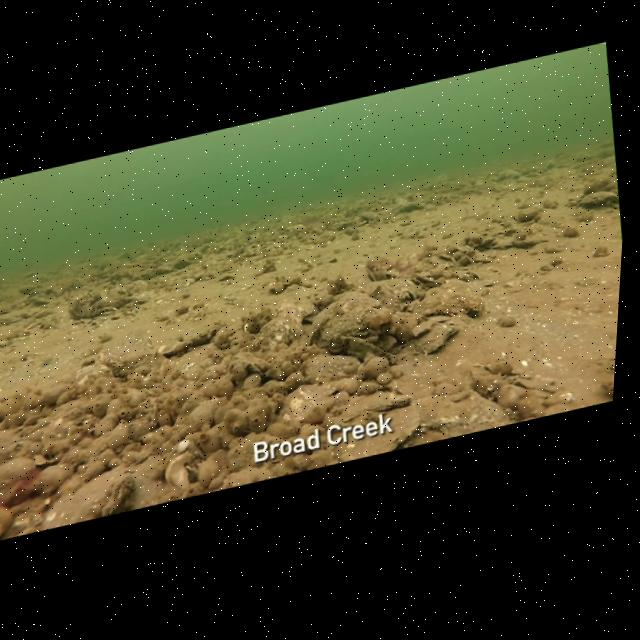Oyster-Closed: (487, 163, 524, 192)
Oyster-Indeterminate: (327, 402, 435, 465), (272, 373, 357, 441), (404, 263, 497, 325), (69, 466, 157, 525), (338, 324, 410, 376), (298, 344, 367, 396), (241, 313, 302, 365), (360, 268, 421, 318), (97, 331, 157, 381), (20, 455, 80, 495), (170, 337, 222, 383), (269, 290, 311, 346), (161, 446, 206, 494), (409, 319, 461, 359), (66, 356, 114, 394), (574, 185, 621, 219), (65, 289, 108, 326), (178, 321, 224, 352), (0, 450, 37, 488), (493, 376, 526, 413), (468, 368, 499, 406), (150, 334, 186, 366), (513, 390, 546, 424), (533, 396, 579, 420), (511, 200, 549, 229), (580, 168, 615, 198), (390, 194, 430, 218), (448, 263, 485, 288), (0, 500, 22, 542), (31, 446, 67, 470), (495, 308, 523, 338), (525, 378, 556, 405), (488, 232, 519, 258), (28, 289, 64, 311), (15, 276, 45, 300), (102, 278, 130, 303), (309, 228, 340, 249), (541, 386, 572, 407), (0, 438, 23, 466), (286, 218, 315, 240), (505, 221, 530, 245), (467, 246, 493, 268), (358, 204, 383, 226), (435, 246, 460, 268), (170, 255, 195, 275), (463, 230, 489, 249), (561, 223, 584, 244), (455, 239, 480, 258), (172, 277, 197, 295), (183, 264, 206, 283), (497, 358, 516, 381), (592, 243, 614, 262), (200, 266, 226, 281), (331, 218, 357, 232), (450, 249, 471, 265), (104, 295, 126, 309), (155, 263, 173, 279), (138, 267, 158, 281), (22, 269, 41, 283), (119, 248, 136, 262), (183, 274, 196, 288), (0, 409, 3, 432)
Oyster-Open: (303, 289, 383, 352), (118, 291, 149, 310), (103, 304, 118, 316)
